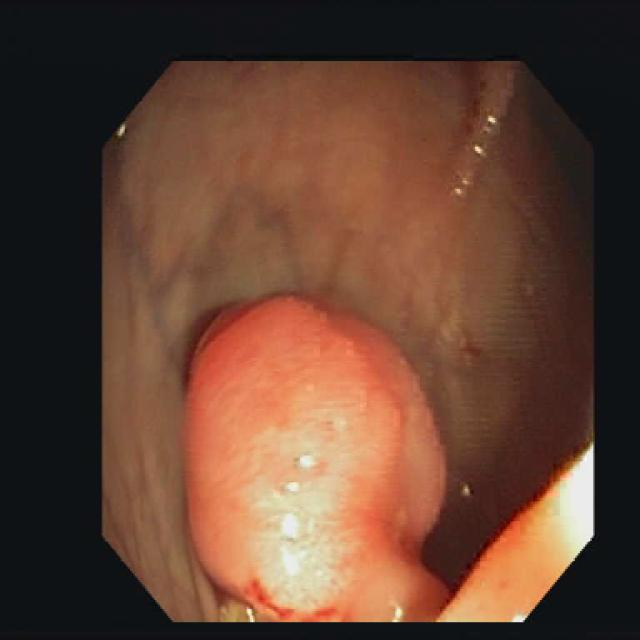tumor: (187, 296, 448, 620)
